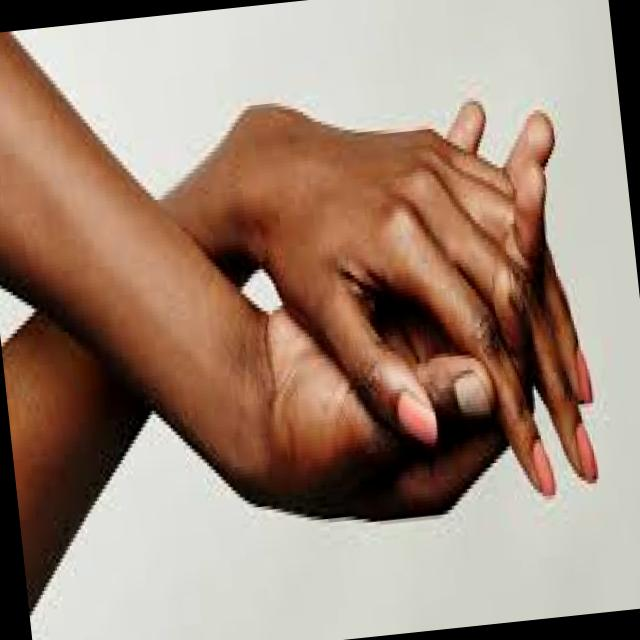Hand: (224, 63, 610, 534), (213, 82, 600, 549)
